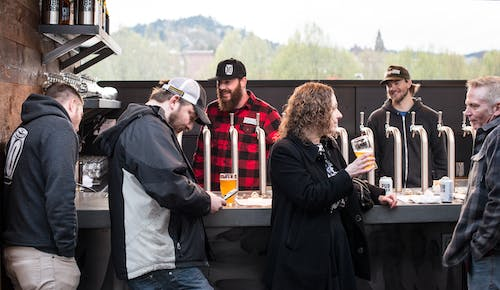alcohol: (350, 135, 378, 174), (219, 172, 238, 209), (438, 178, 455, 204), (378, 175, 394, 196)
